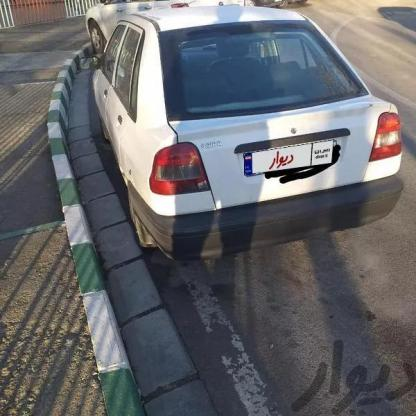Car: (72, 7, 416, 256), (74, 0, 256, 54)
